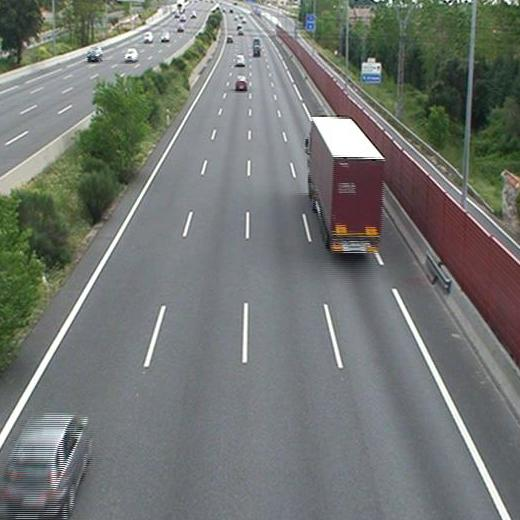car: (3, 415, 84, 516), (236, 76, 247, 90), (236, 55, 246, 65)
truck: (308, 117, 384, 253)
van: (252, 43, 261, 57)
